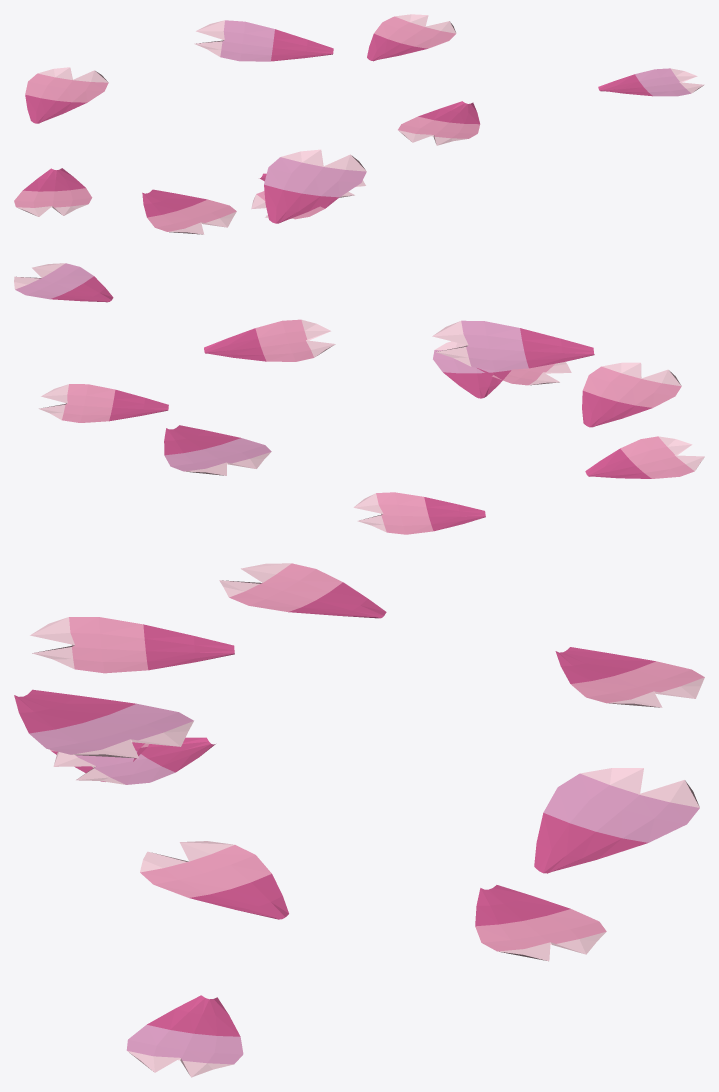
The model's file is fallen-petals.glb.
The picture shows the model from 3 angles, top to bottom: view 1: azimuth 30°, elevation 25°; view 2: azimuth 150°, elevation 25°; view 3: azimuth 270°, elevation 25°; orthographic projection. The views are drawn at different scales.
Parts seen in each view (by area): view 1: fallen petal 1, fallen petal 2; view 2: fallen petal 1, fallen petal 2; view 3: fallen petal 1, fallen petal 2.
Boxes of the visible parts, <box> form: fallen petal 1: <box>17,14,704,234</box>; fallen petal 2: <box>14,16,479,231</box>; fallen petal 1: <box>14,263,704,532</box>; fallen petal 2: <box>62,319,694,534</box>; fallen petal 1: <box>14,563,704,1077</box>; fallen petal 2: <box>50,563,704,951</box>.
Bounding box in the file's own units: 0.3704 × 0.0137 × 0.2134.
